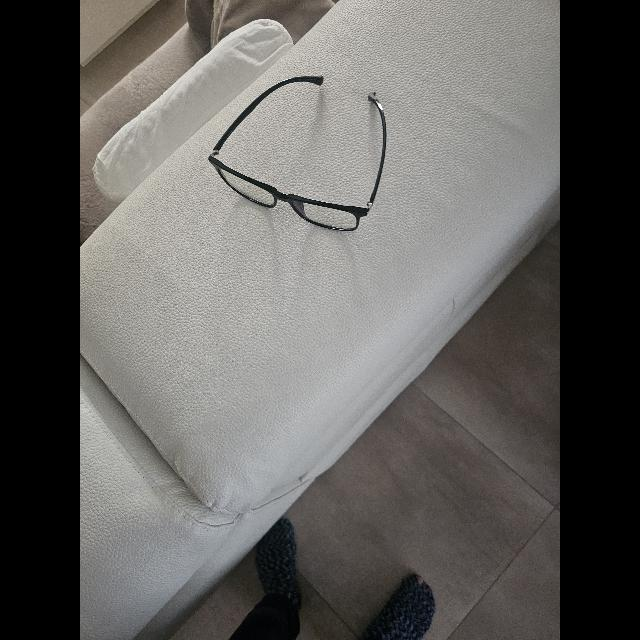glasses: (208, 76, 386, 230)
